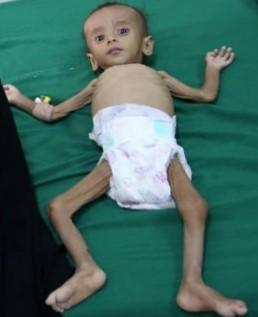Stunting: (72, 0, 182, 81)
